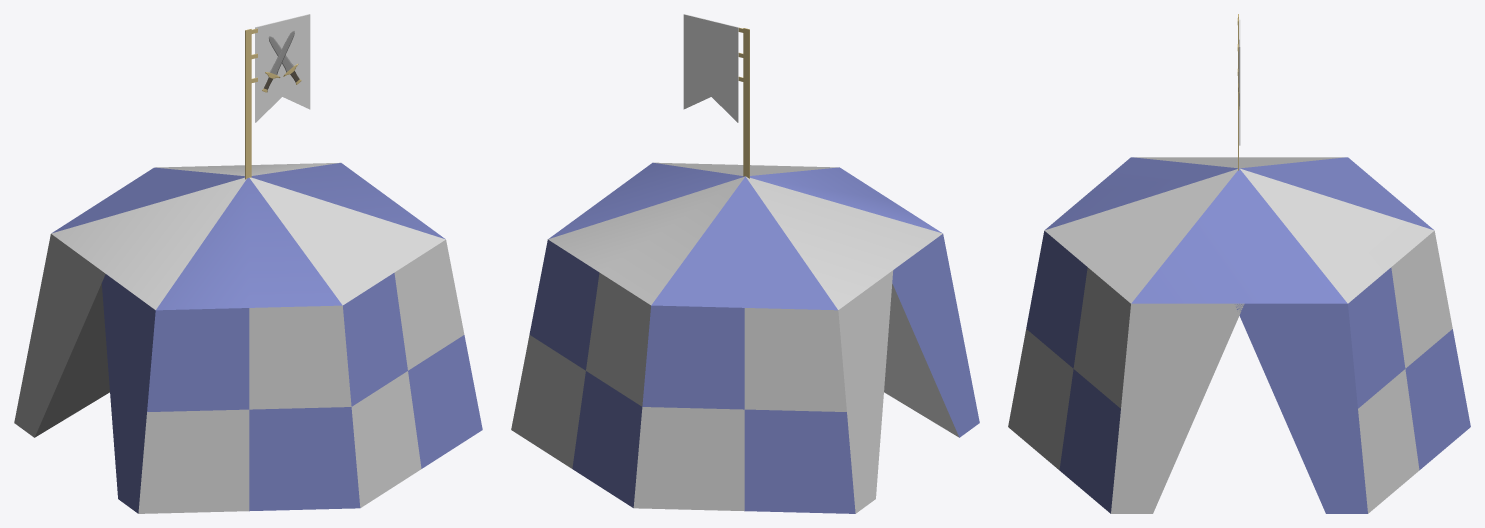
The model's file is attack_tent_01.fbx.
3 views of the same model, side by side, from view 1: azimuth 30°, elevation 25°; view 2: azimuth 150°, elevation 25°; view 3: azimuth 270°, elevation 25° (orthographic). The views are drawn at different scales.
Parts seen in each view (by area): view 1: pCube147, pCube146; view 2: pCube147, pCube146; view 3: pCube147.
Part boxes in pixels (left/top/right/bottom): pCube147: left=14, top=162, right=482, bottom=513; pCube146: left=245, top=14, right=310, bottom=179; pCube147: left=511, top=162, right=979, bottom=513; pCube146: left=683, top=14, right=749, bottom=178; pCube147: left=1008, top=157, right=1470, bottom=513.
Size of the model in its own units: 1.9 by 2.09 by 2.13.
